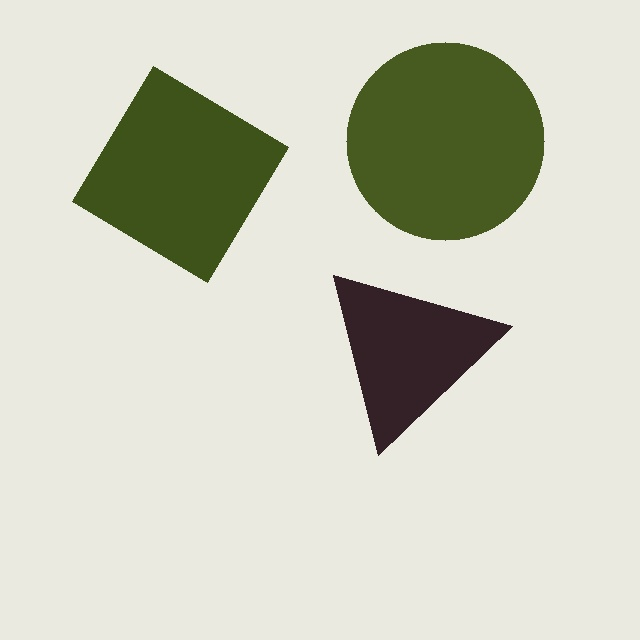circle: (345, 41, 544, 240)
square: (72, 66, 288, 282)
triangle: (332, 274, 512, 455)
